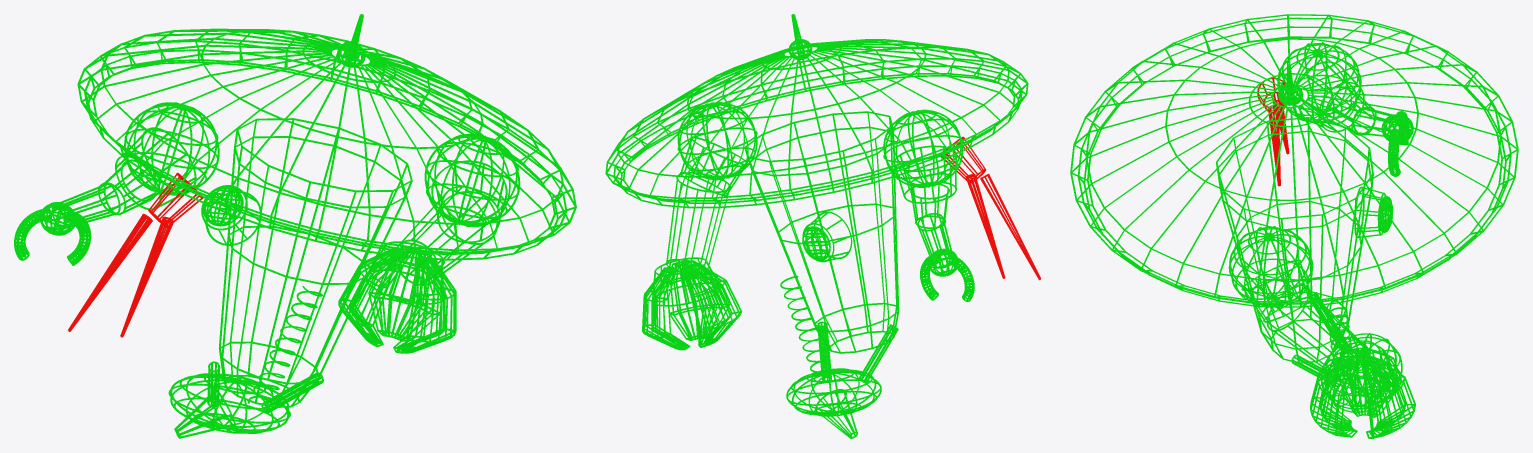
Rendered from construction-droids-highlight-laser-solder-tool.glb.
3 views of the same model, side by side, from view 1: azimuth 30°, elevation 25°; view 2: azimuth 150°, elevation 25°; view 3: azimuth 270°, elevation 25° (orthographic). The views are drawn at different scales.
Visible parts, largest first — view 1: chassis technical wire, heavy-manipulator technical wire, spot-welder technical wire, light-manipulator technical wire, laser-solder-tool technical wire, optical-sensor technical wire; view 2: chassis technical wire, heavy-manipulator technical wire, spot-welder technical wire, light-manipulator technical wire, laser-solder-tool technical wire, optical-sensor technical wire; view 3: chassis technical wire, heavy-manipulator technical wire, spot-welder technical wire, light-manipulator technical wire, laser-solder-tool technical wire, optical-sensor technical wire.
Boxes of the visible parts, x1,y1,x2,y2 form: chassis technical wire: (77, 14, 576, 413); heavy-manipulator technical wire: (338, 241, 456, 353); spot-welder technical wire: (168, 286, 322, 438); light-manipulator technical wire: (14, 183, 120, 265); laser-solder-tool technical wire: (67, 172, 203, 337); optical-sensor technical wire: (201, 185, 261, 245); chassis technical wire: (605, 14, 1028, 382); heavy-manipulator technical wire: (642, 257, 742, 350); spot-welder technical wire: (780, 275, 881, 438); light-manipulator technical wire: (917, 213, 974, 301); laser-solder-tool technical wire: (941, 136, 1040, 280); optical-sensor technical wire: (802, 211, 852, 262); chassis technical wire: (1070, 14, 1518, 386); heavy-manipulator technical wire: (1310, 342, 1415, 438); spot-welder technical wire: (1320, 300, 1402, 412); light-manipulator technical wire: (1352, 107, 1413, 177); laser-solder-tool technical wire: (1257, 77, 1289, 186); optical-sensor technical wire: (1354, 186, 1393, 238).
Bounding box in the file's own units: 2.67 × 2.31 × 2.49.
